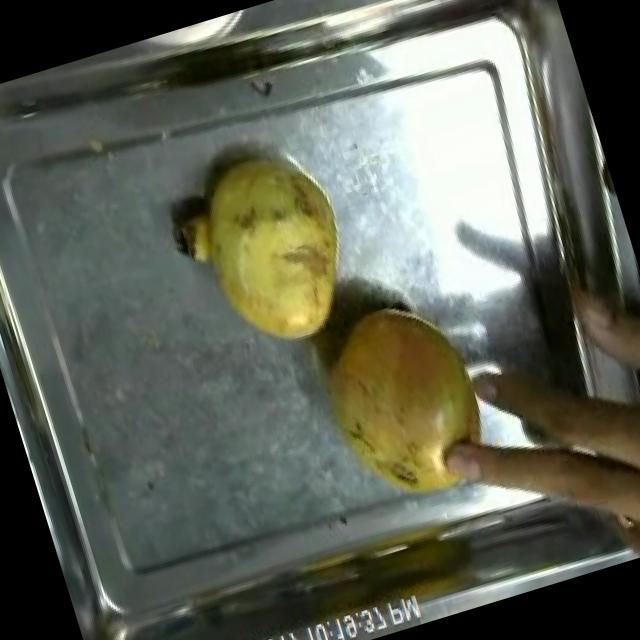fruit: (286, 272, 526, 534), (154, 125, 375, 378)
